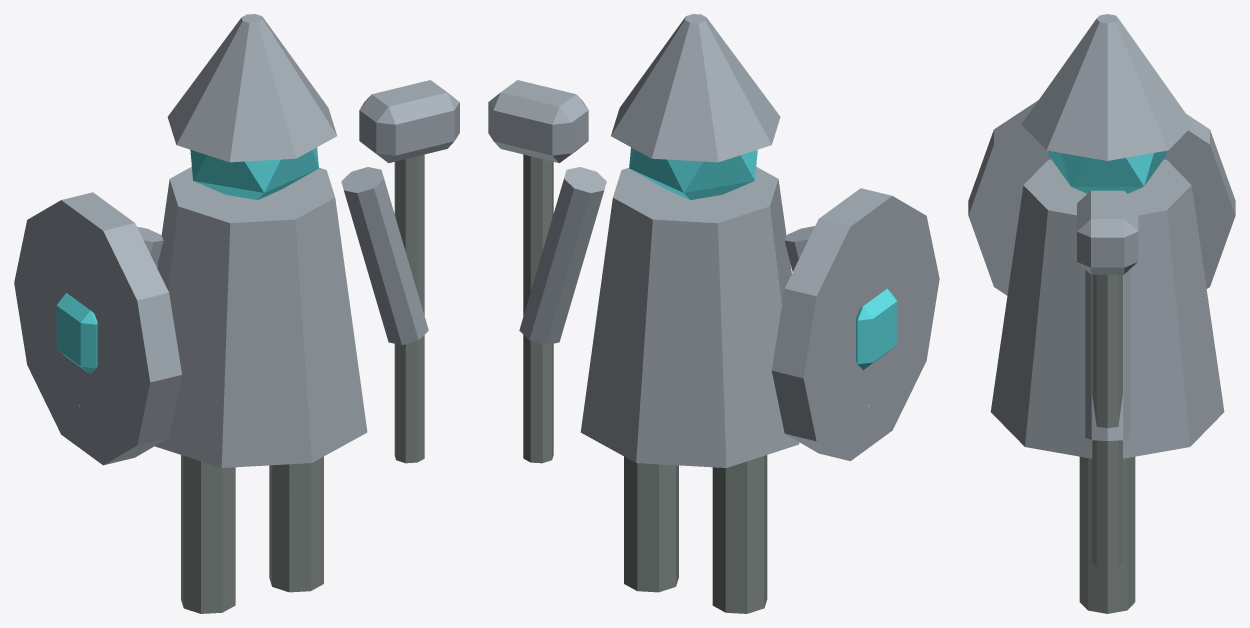
Rendered from hero_stone_warden.glb.
3 renders of one model, left to right at view 1: azimuth 30°, elevation 25°; view 2: azimuth 150°, elevation 25°; view 3: azimuth 270°, elevation 25°, orthographic.
Visible parts, largest first — view 1: hero_stone_warden; view 2: hero_stone_warden; view 3: hero_stone_warden.
Boxes of the visible parts, x1,y1,x2,y2 form: hero_stone_warden: [14, 14, 459, 613]; hero_stone_warden: [488, 14, 939, 613]; hero_stone_warden: [968, 14, 1235, 613].
Size of the model in its own units: 1.57 by 2.23 by 0.96.
